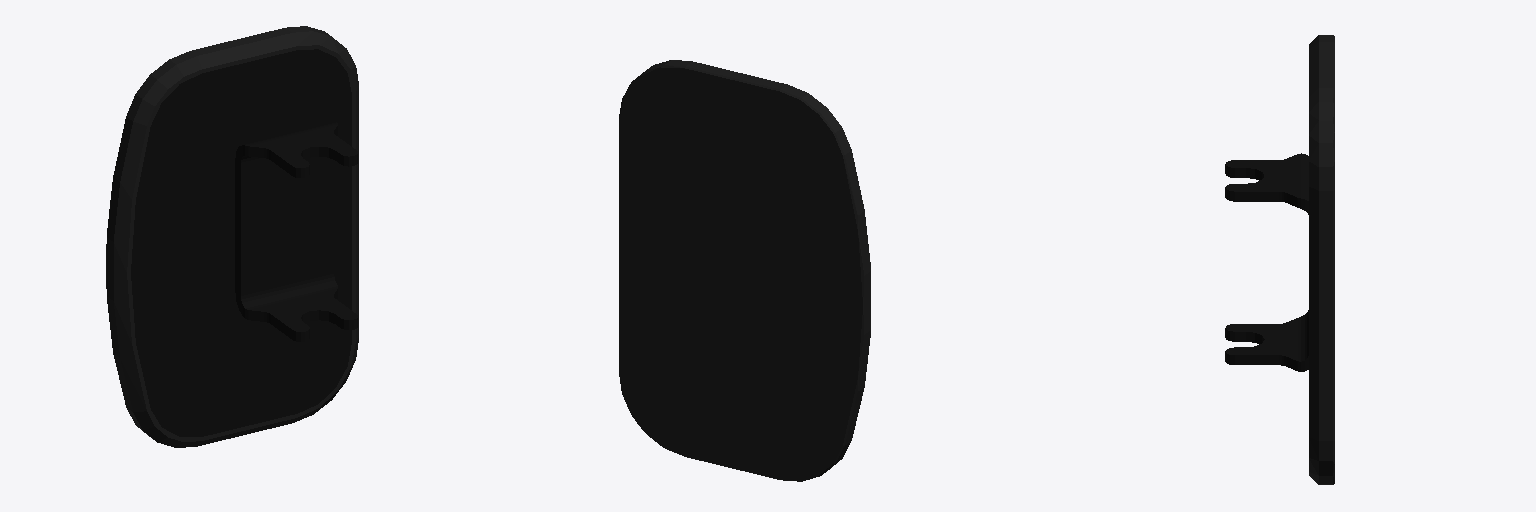
Rendered from Shoe_Flex_1_mesh.obj.
3 views of the same model, side by side, from view 1: azimuth 30°, elevation 25°; view 2: azimuth 150°, elevation 25°; view 3: azimuth 270°, elevation 25° (orthographic).
Visible parts, largest first — view 1: Body2, Body1; view 2: Body1; view 3: Body1, Body2.
Part boxes in pixels (bbox=[...]): Body2: bbox=[131, 49, 357, 436]; Body1: bbox=[106, 26, 358, 447]; Body1: bbox=[619, 60, 870, 481]; Body1: bbox=[1309, 35, 1334, 484]; Body2: bbox=[1225, 153, 1308, 371].
Bounding box in the file's own units: 0.0763 × 0.1159 × 0.0294.